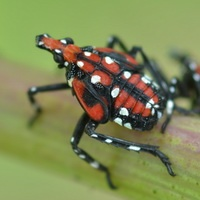insect: (28, 34, 175, 188)
